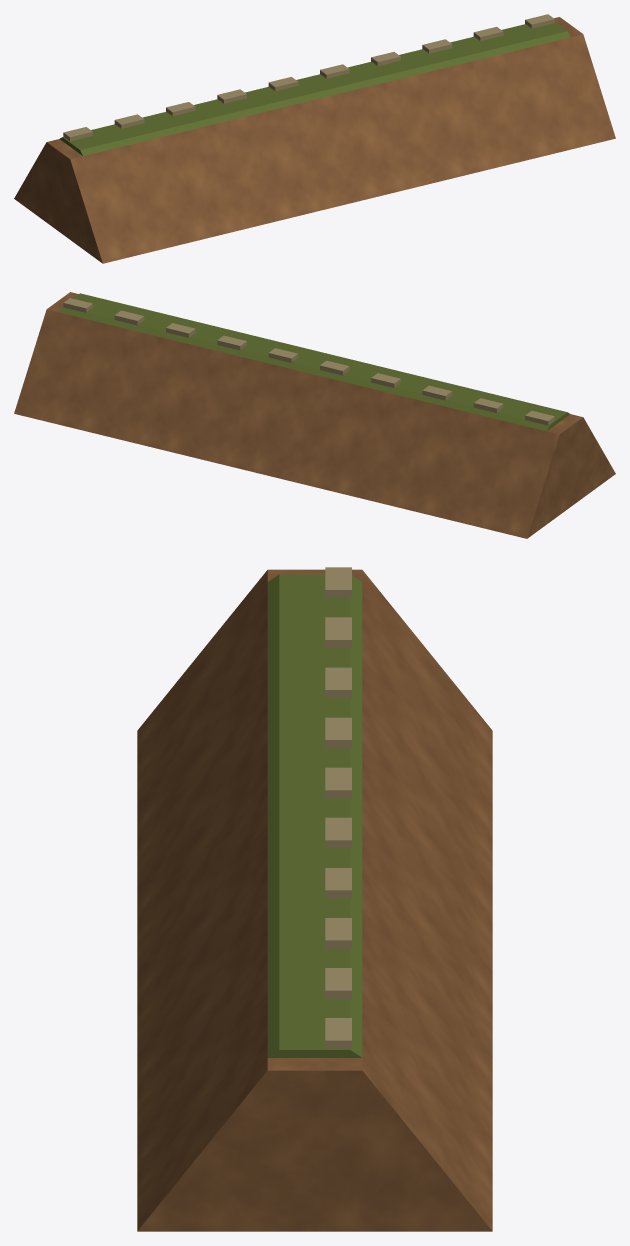
Rendered from earth_bund.fbx.
3 views of the same model, one above another, from view 1: azimuth 30°, elevation 25°; view 2: azimuth 150°, elevation 25°; view 3: azimuth 270°, elevation 25° (orthographic). The views are drawn at different scales.
Visible parts, largest first — view 1: Bund; view 2: Bund; view 3: Bund.
Part boxes in pixels (x1,y1,x2,y2): Bund: (14,14,615,263); Bund: (14,292,615,538); Bund: (137,567,492,1231).
Size of the model in its own units: 20 by 3.3 by 6.
